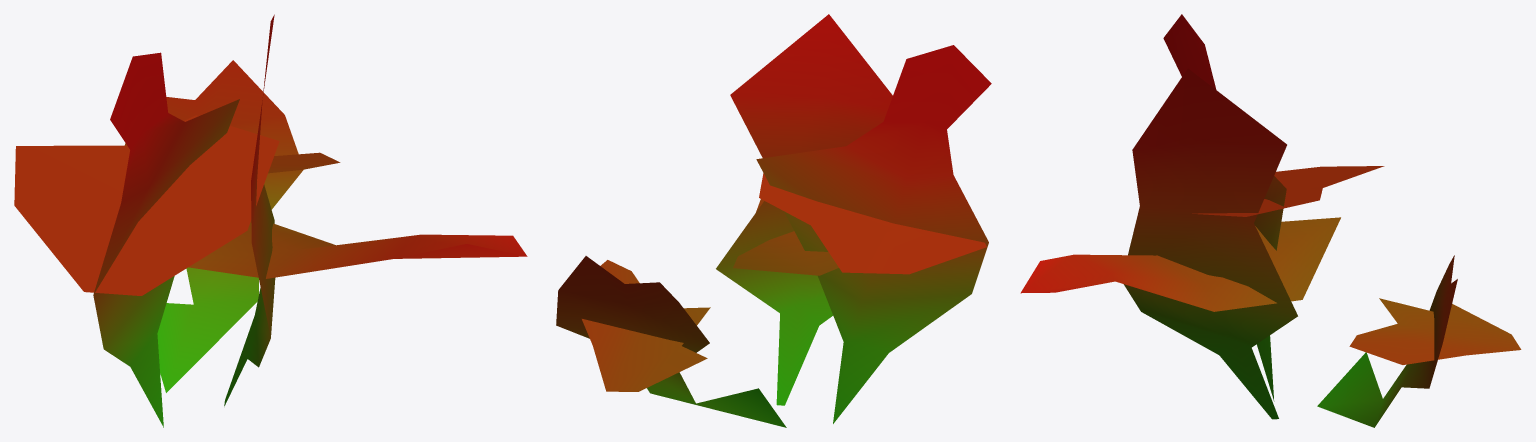
Rendered from Downy Willow_LOD3_Var11_wknlfiuqx.fbx.
The picture shows the model from 3 angles, left to right: view 1: azimuth 30°, elevation 25°; view 2: azimuth 150°, elevation 25°; view 3: azimuth 270°, elevation 25°; orthographic projection. The views are drawn at different scales.
Visible parts, largest first — view 1: _7ohh_Var11_LOD3; view 2: _7ohh_Var11_LOD3; view 3: _7ohh_Var11_LOD3.
Part boxes in pixels (bbox=[...]): _7ohh_Var11_LOD3: bbox=[14, 14, 527, 427]; _7ohh_Var11_LOD3: bbox=[556, 14, 991, 427]; _7ohh_Var11_LOD3: bbox=[1020, 14, 1521, 427].
Bounding box in the file's own units: 42.39 × 48.3 × 61.55.
